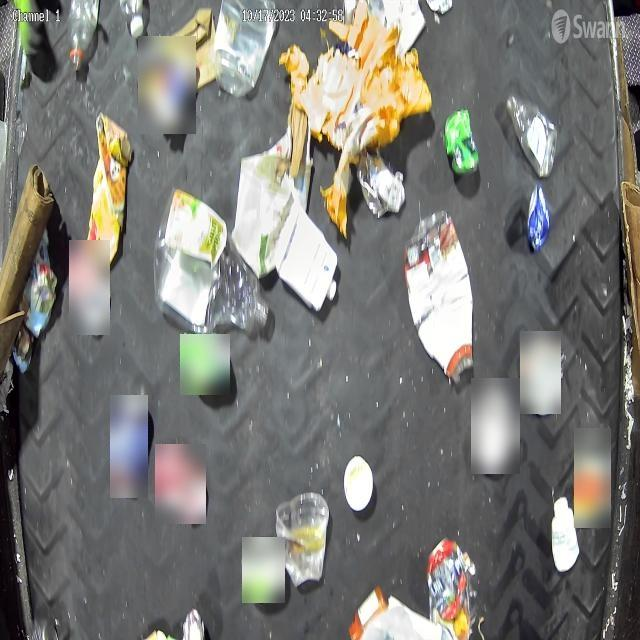non_white_jug: (153, 189, 269, 334)
plastic_bottle: (504, 90, 558, 178)
